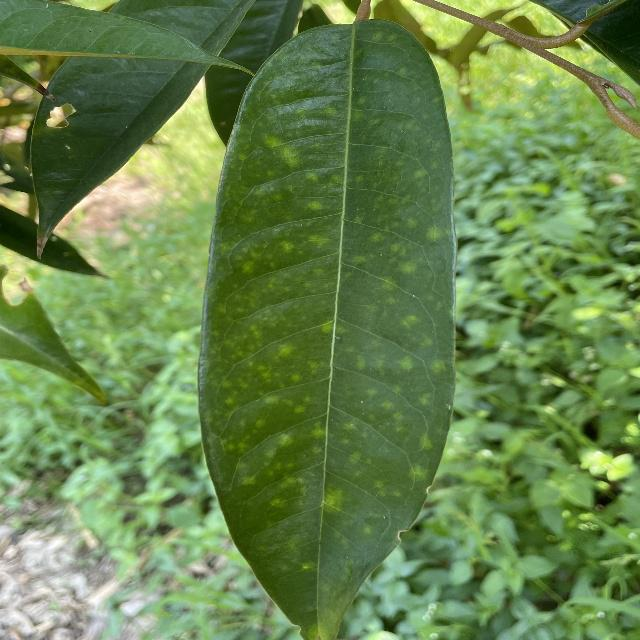Leaf Spot: (197, 13, 467, 639)
